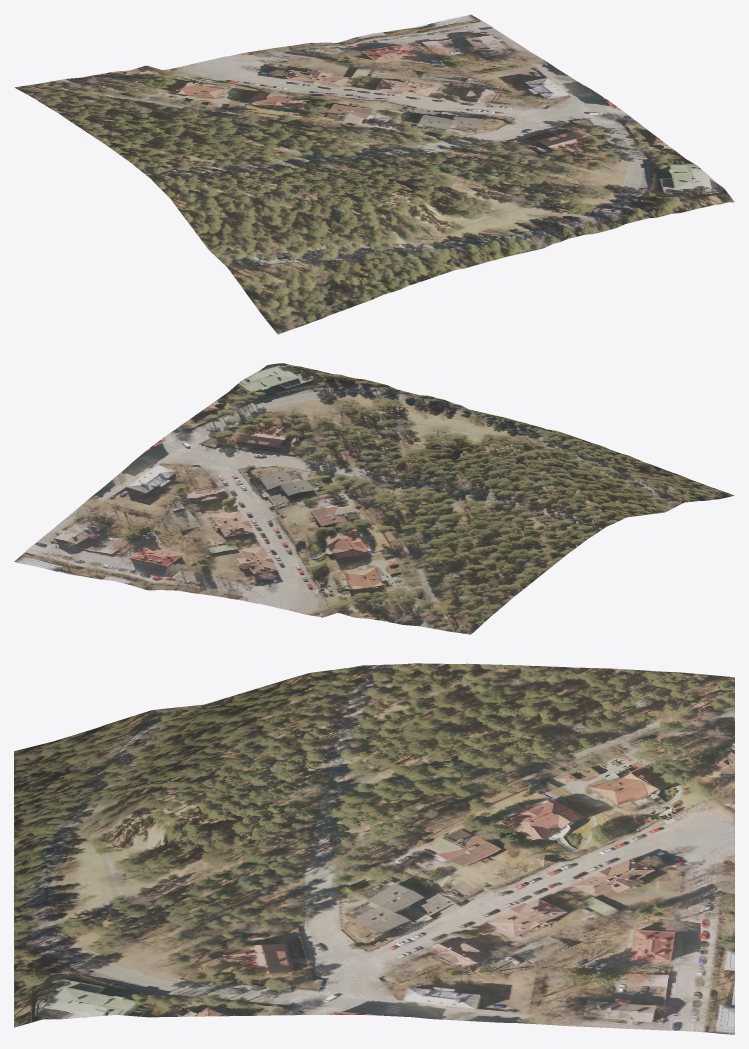
The model's file is CM_Terrain_24486158_6820408.fbx.
3 views of the same model, one above another, from view 1: azimuth 30°, elevation 25°; view 2: azimuth 150°, elevation 25°; view 3: azimuth 270°, elevation 25° (orthographic). The views are drawn at different scales.
Parts seen in each view (by area): view 1: CM_Terrain_24486158_6820408_LOD0; view 2: CM_Terrain_24486158_6820408_LOD0; view 3: CM_Terrain_24486158_6820408_LOD0.
Boxes of the visible parts, x1=… form: CM_Terrain_24486158_6820408_LOD0: x1=14, y1=14, x2=734, y2=334; CM_Terrain_24486158_6820408_LOD0: x1=14, y1=363, x2=734, y2=634; CM_Terrain_24486158_6820408_LOD0: x1=14, y1=663, x2=734, y2=1034.
Size of what is drawn, in the model's own units: 205 by 27.53 by 205.
